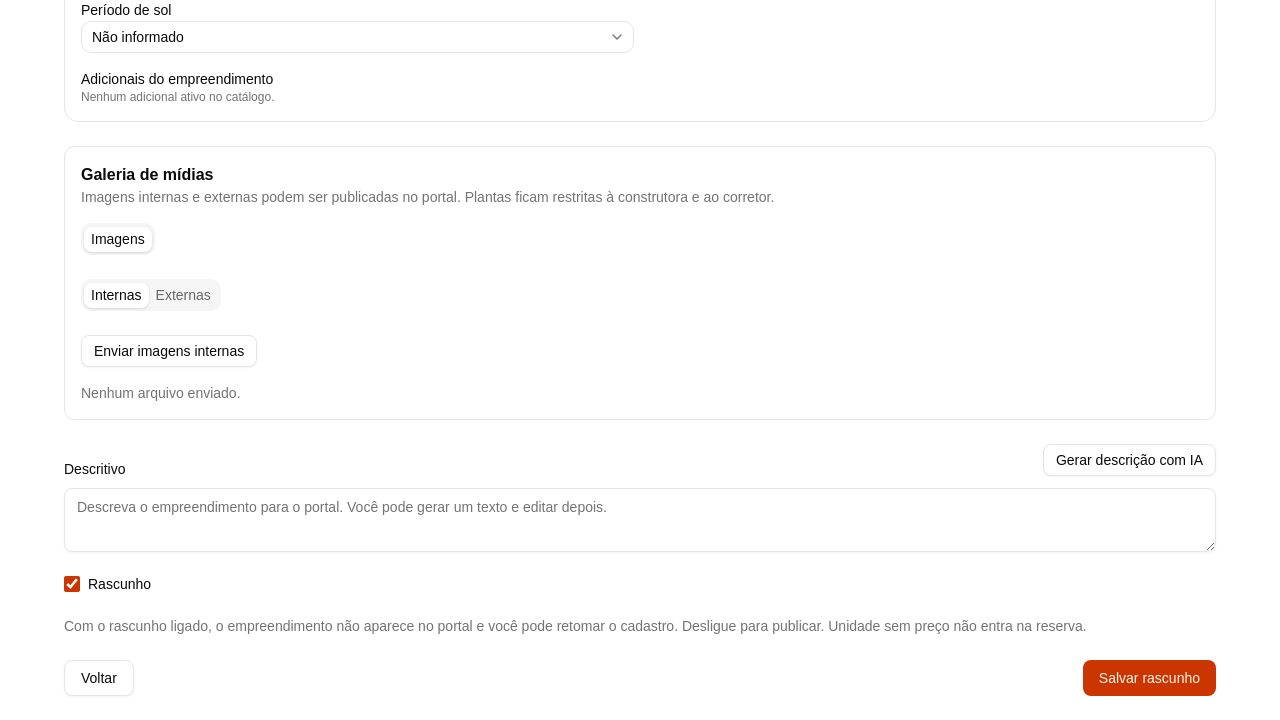
BuildingWizardPage › fills the description from the IA generator
(page scrolled)
Click the button "Gerar descrição com IA" at (1129, 460), box top-left (1043, 444), bottom-right (1216, 476)
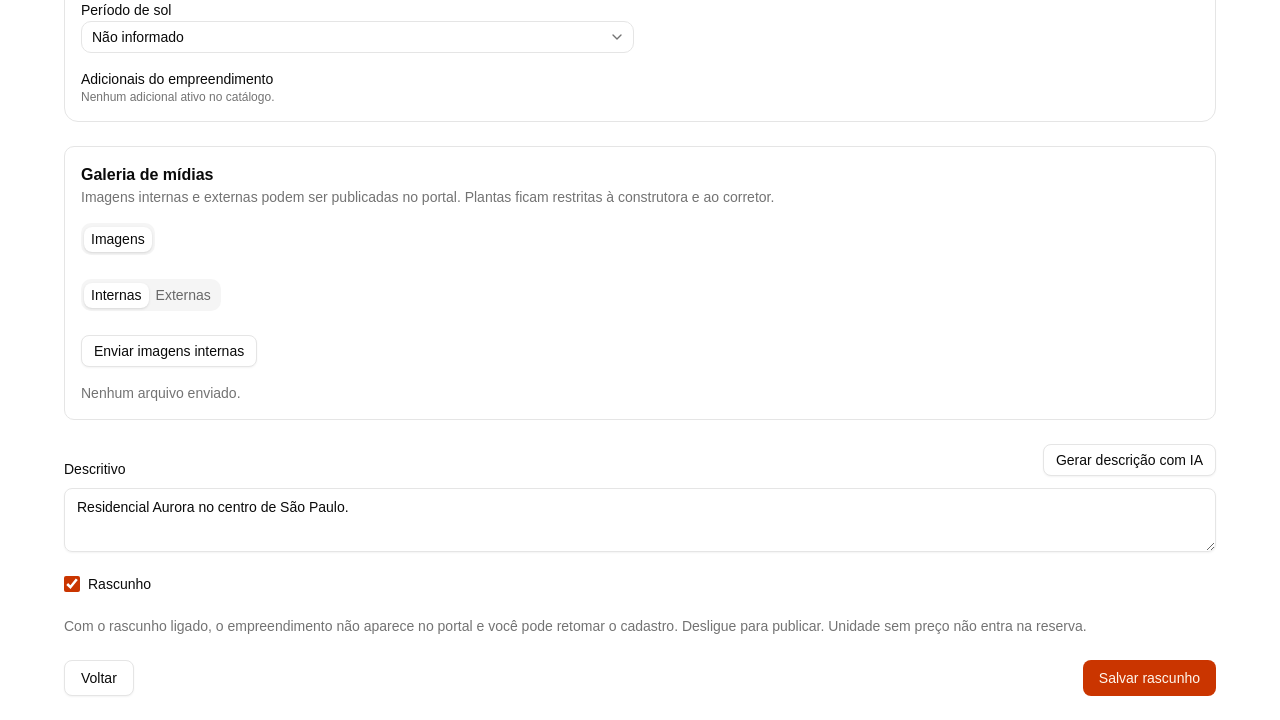
Expected: the text box labelled "Descritivo" holds "Residencial Aurora no centro de São Paulo.", top-left (64, 488), bottom-right (1216, 552)
